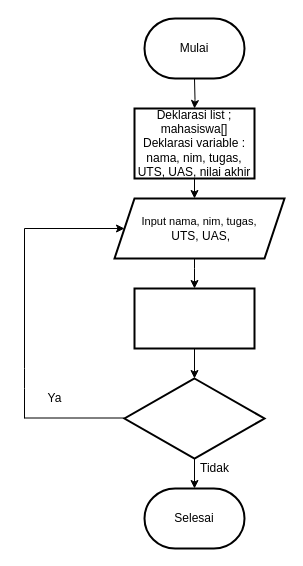
Image size: 303x566. Some labels were removed from this diagram. Here are the shapes that lost their labels. From the top down, the box of each, then its label:
(133, 287, 255, 349): nilai_akhir = 0.3 * float(tugas) + 0.35 * float(UTS) + 0.35 * float(UAS)
(123, 377, 265, 459): Menambahkan data?
